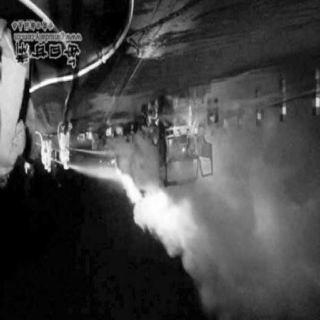Fire: (120, 157, 204, 247)
other: (38, 132, 78, 180)
